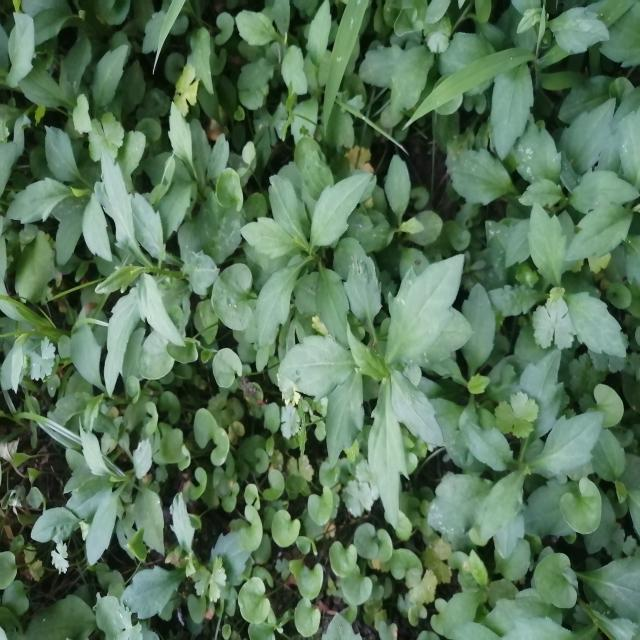Indian aster: (290, 264, 469, 489), (84, 166, 209, 379), (239, 167, 362, 345)
